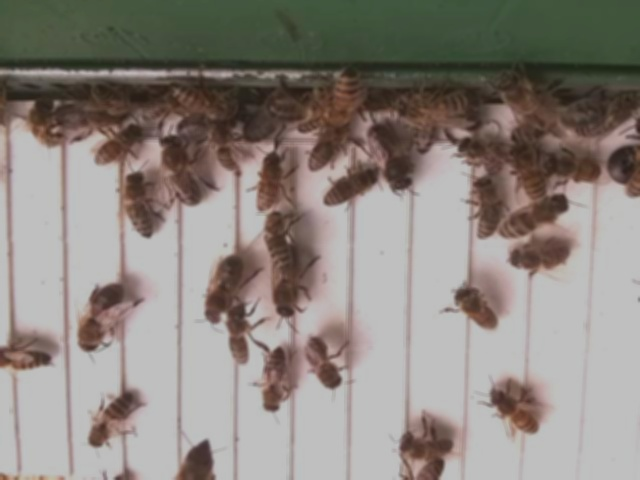Drone: (74, 284, 126, 357), (364, 121, 414, 195), (199, 254, 246, 325), (159, 137, 204, 208), (52, 99, 129, 136), (272, 245, 306, 321)
Worker: (496, 198, 567, 242), (484, 386, 542, 437), (86, 392, 134, 452), (118, 171, 156, 241), (465, 177, 502, 244), (320, 170, 380, 211), (451, 134, 506, 177), (303, 336, 344, 393), (505, 242, 572, 276), (450, 286, 498, 333), (92, 124, 140, 169), (395, 430, 456, 464), (208, 120, 244, 176), (307, 120, 344, 174), (253, 151, 284, 215), (511, 144, 544, 204), (262, 212, 294, 273), (260, 347, 288, 416), (0, 343, 52, 376), (546, 153, 602, 183), (226, 305, 254, 364)
